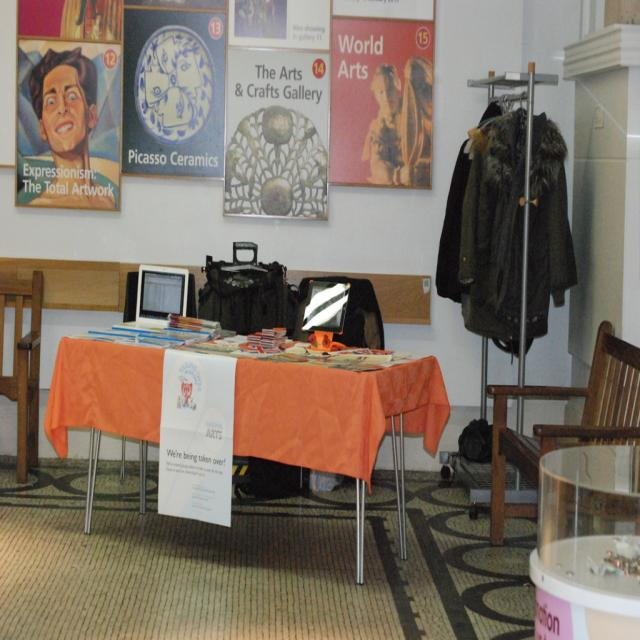chair: (488, 320, 640, 546), (0, 266, 44, 484)
desk: (68, 297, 476, 592)
laptop: (108, 264, 198, 338)
